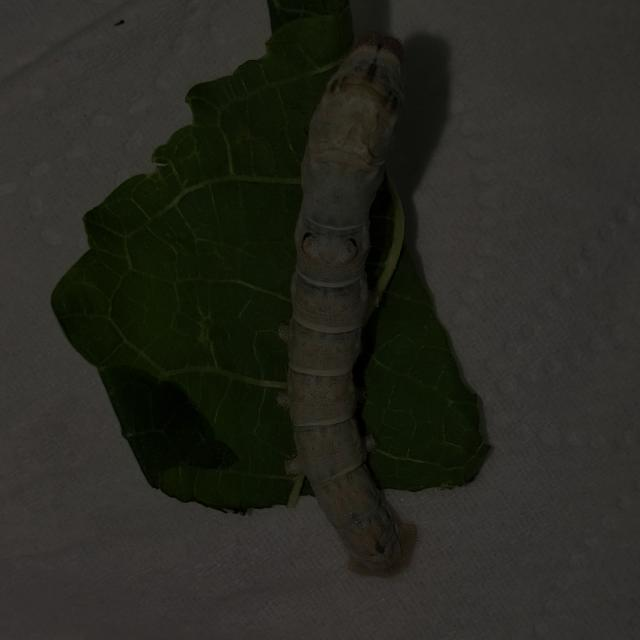Healthy: (262, 14, 434, 592)
